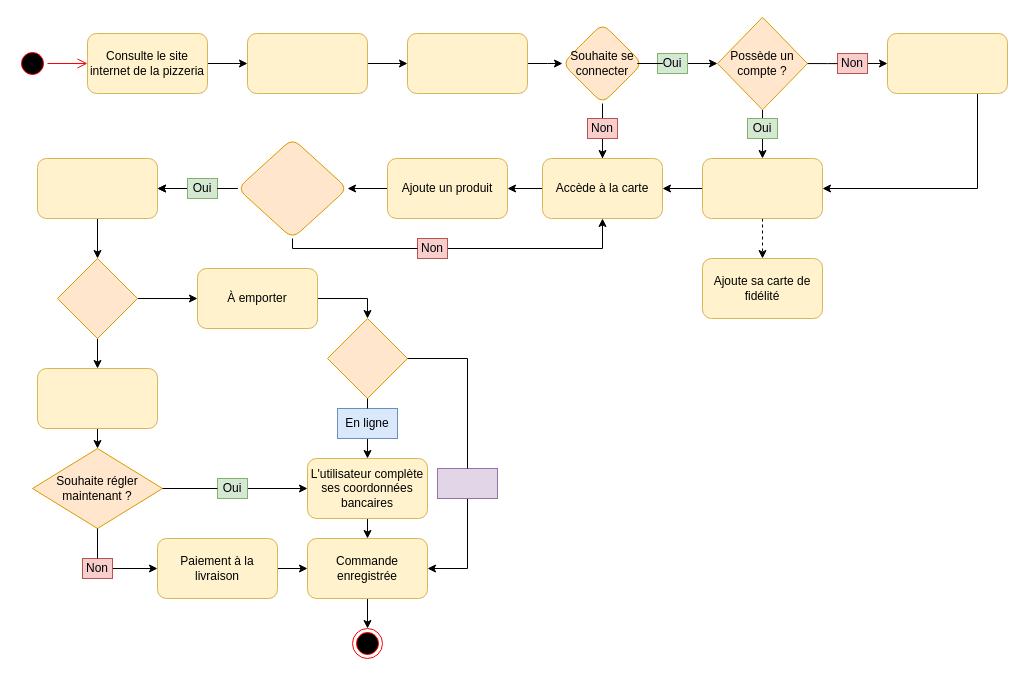
Some shapes in this 1025 by 677 pixel diagram are drawn without their labels. Here are the shapes that lost their labels. From the top down, the box of each, then its label:
(246, 32, 368, 94): Souhaite accéder à la carte
(406, 32, 528, 94): Proposition de connexion
(886, 32, 1008, 94): S'inscrit
(36, 158, 158, 218): Valide sa commande
(236, 138, 348, 238): À terminé sa commande ?
(702, 158, 822, 218): Se connecte
(56, 258, 138, 338): Choix du mode de livraison
(326, 318, 408, 398): Choix du mode de paiement
(36, 368, 158, 428): À domicile
(436, 468, 498, 498): Paiement sur place
